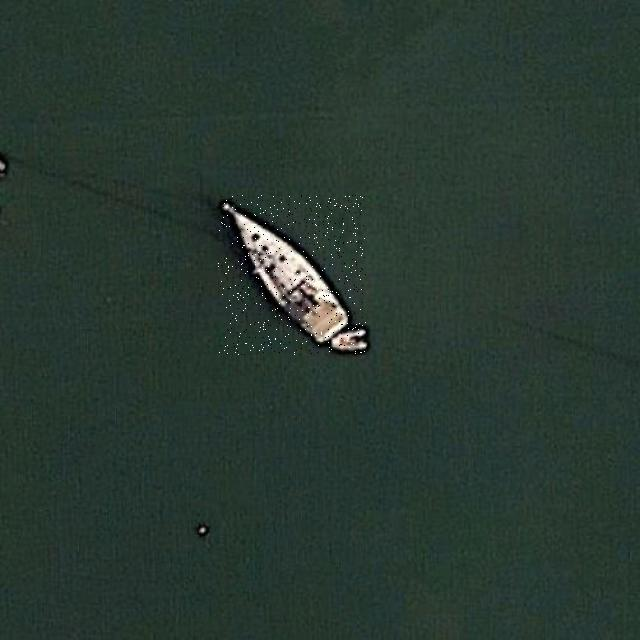boat: (218, 195, 366, 355)
